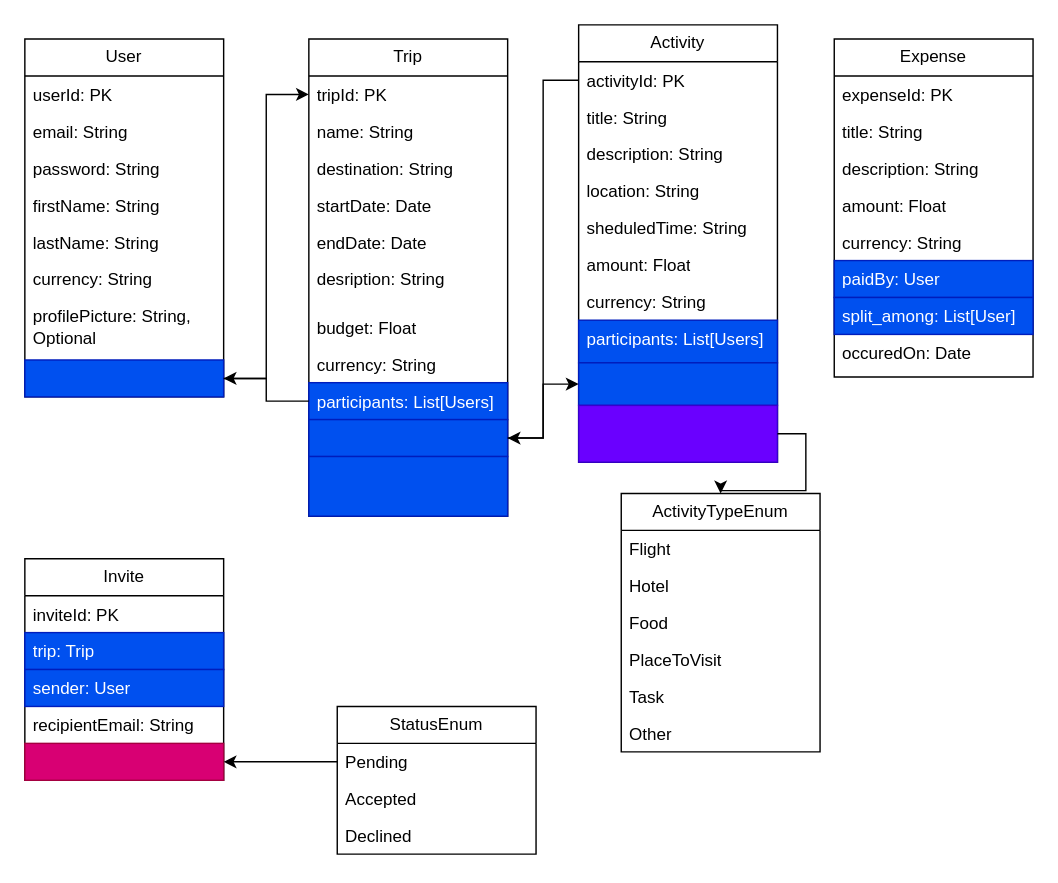
Some shapes in this 1058 by 883 pixel diagram are drawn without their labels. The shapes that lost their labels are listed below. From the top down, each one's centre as x and y in pixels, then its label:
At pixel 123 378: "trips: List[Trip]".
At pixel 677 383: "tripId: Trip".
At pixel 407 437: "activities: List[Activity]".
At pixel 677 433: "type: List[ActivityTypeEnum]".
At pixel 407 485: "expenses: List[Expense]".
At pixel 123 761: "status: StatusEnum".
